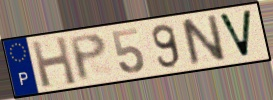5: (109, 26, 146, 75)
9: (150, 23, 181, 69)
H: (29, 34, 79, 89)
N: (178, 12, 228, 69)
P: (67, 31, 109, 83)
V: (216, 8, 254, 60)
